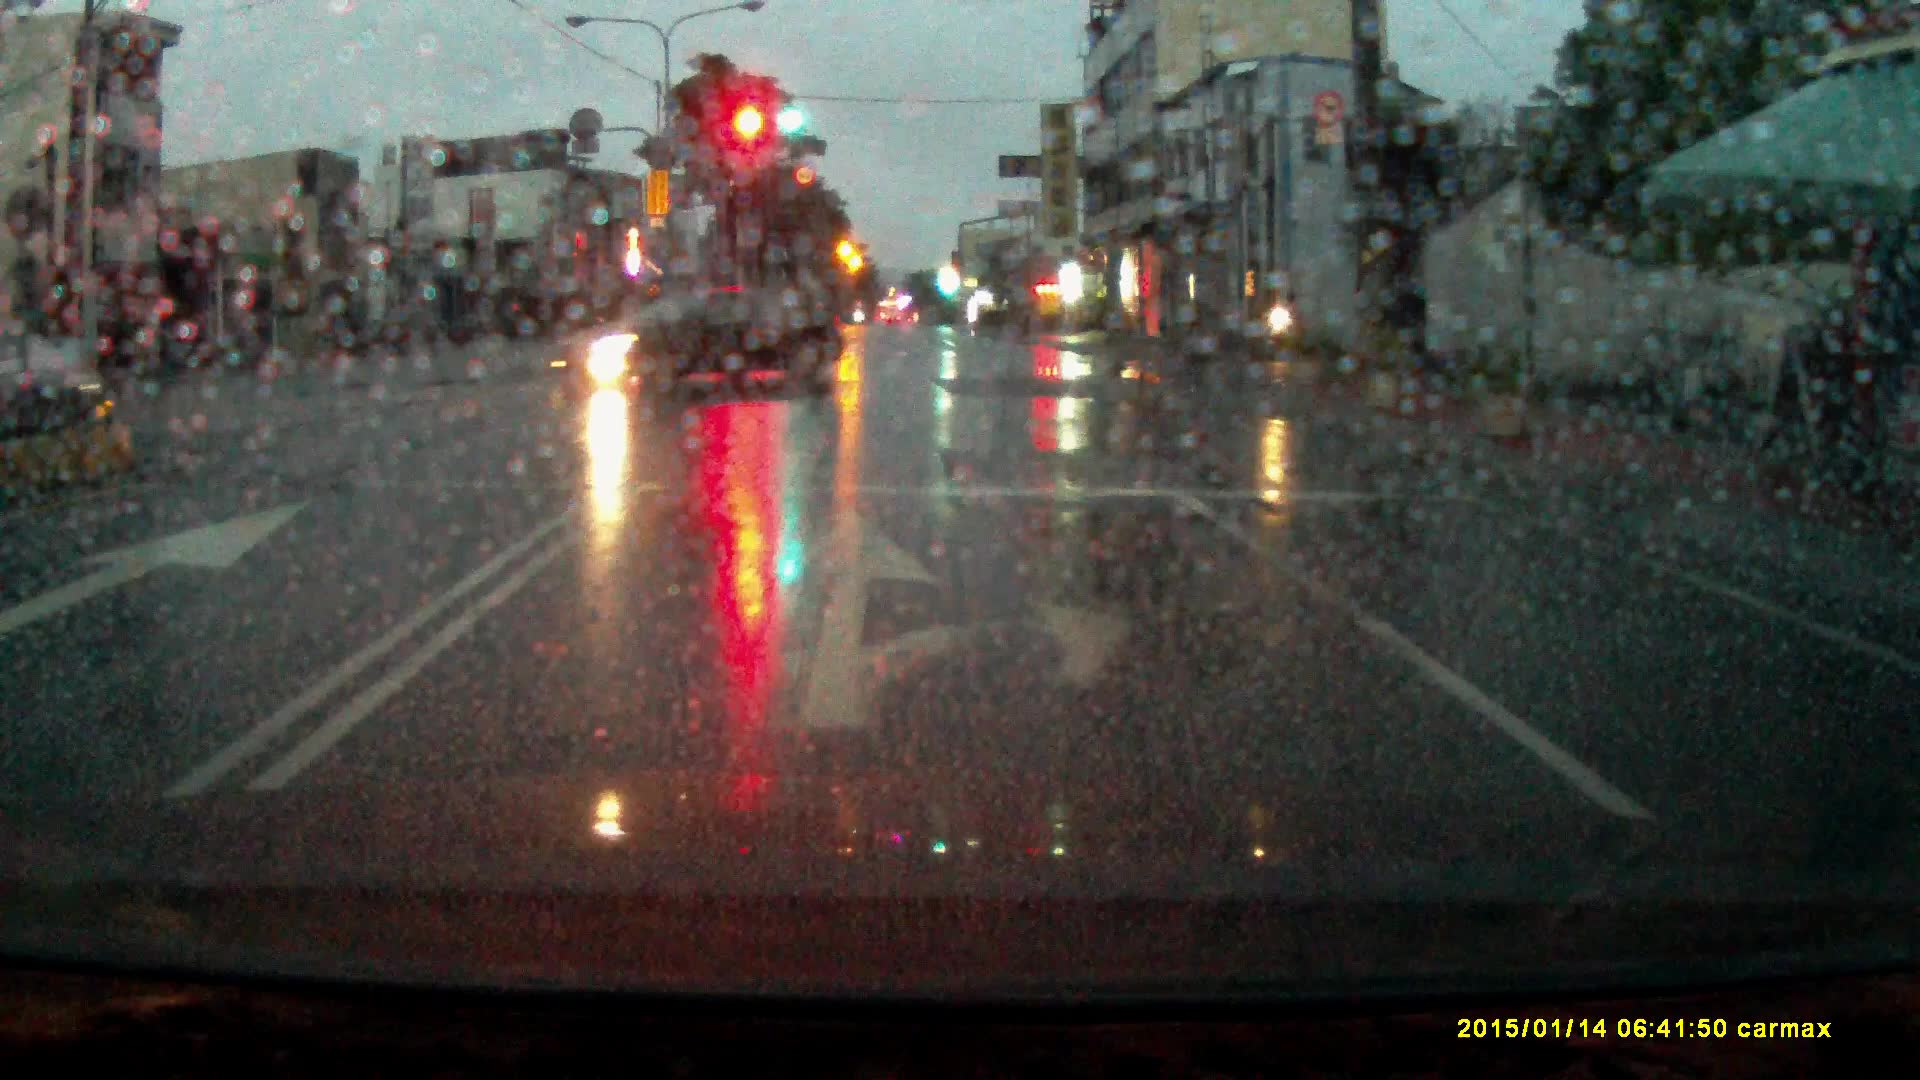rider: (1254, 278, 1315, 366)
vehicle: (543, 289, 848, 395)
